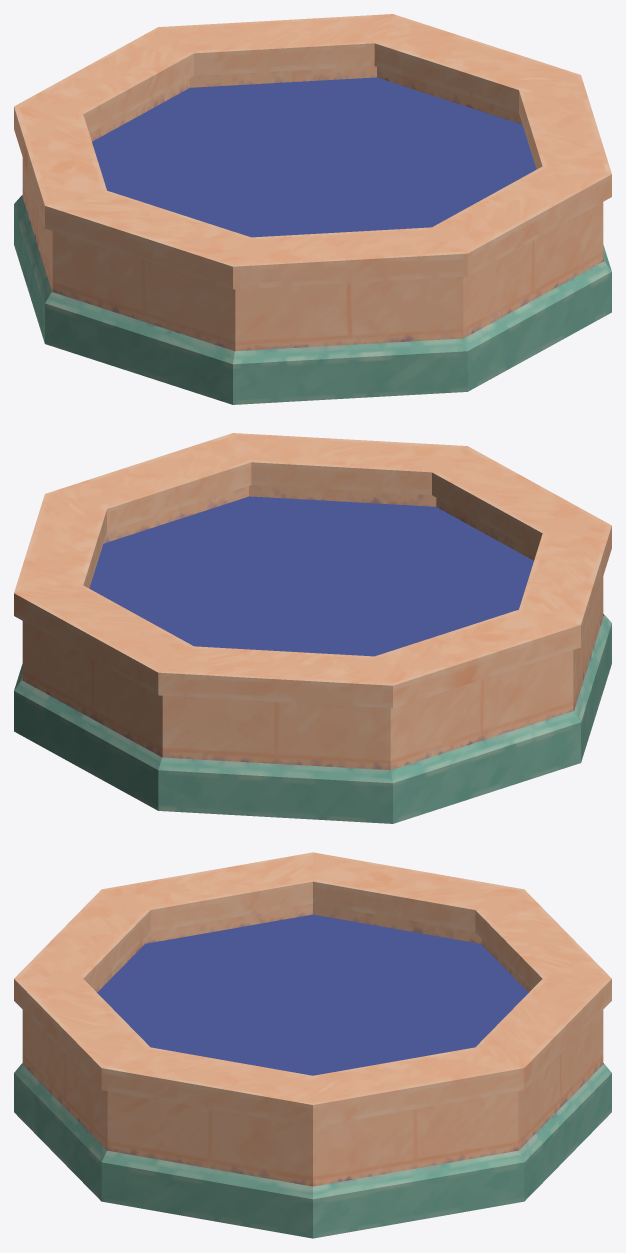
File: vat_indigo_low.fbx
The picture shows the model from 3 angles, top to bottom: view 1: azimuth 30°, elevation 25°; view 2: azimuth 150°, elevation 25°; view 3: azimuth 270°, elevation 25°; orthographic projection. The views are drawn at different scales.
Parts seen in each view (by area): view 1: vat_indigo; view 2: vat_indigo; view 3: vat_indigo.
Boxes of the visible parts, x1,y1,x2,y2 form: vat_indigo: [14, 14, 611, 404]; vat_indigo: [14, 433, 611, 823]; vat_indigo: [14, 852, 611, 1238].
Size of the model in its own units: 6.9 by 1.7 by 6.9.
1 material, 1 textured.
